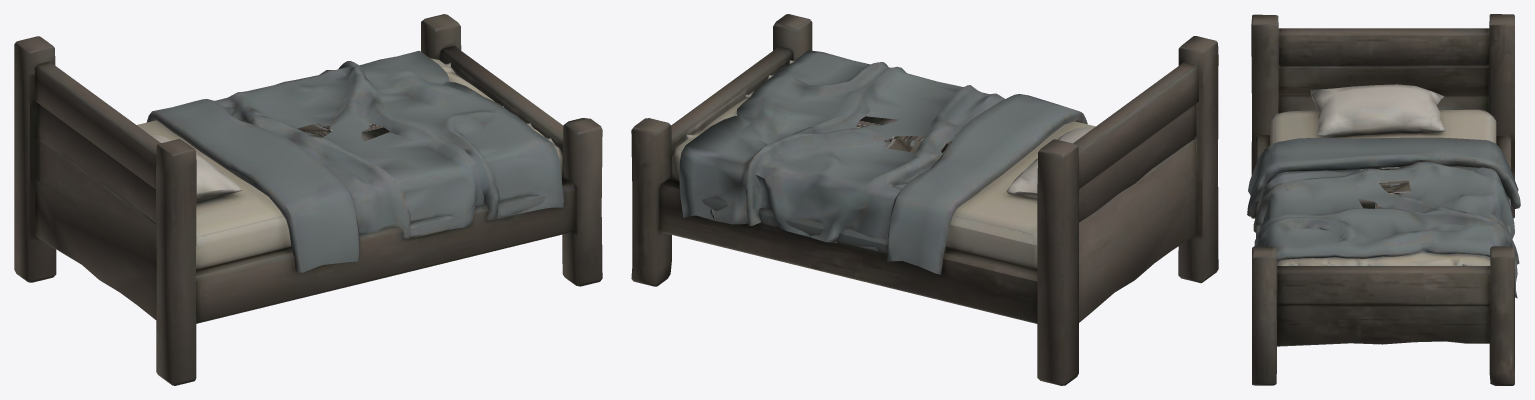
Rendered from bed.glb.
The picture shows the model from 3 angles, left to right: view 1: azimuth 30°, elevation 25°; view 2: azimuth 150°, elevation 25°; view 3: azimuth 270°, elevation 25°; orthographic projection. The views are drawn at different scales.
Visible parts, largest first — view 1: model; view 2: model; view 3: model.
Part boxes in pixels (box(x1,y1,x2,y2)): model: box(14, 14, 602, 385); model: box(631, 14, 1218, 385); model: box(1247, 14, 1520, 385).
Size of the model in its own units: 1.96 by 1 by 1.28.
Materials: 1 (1 with a texture image).
